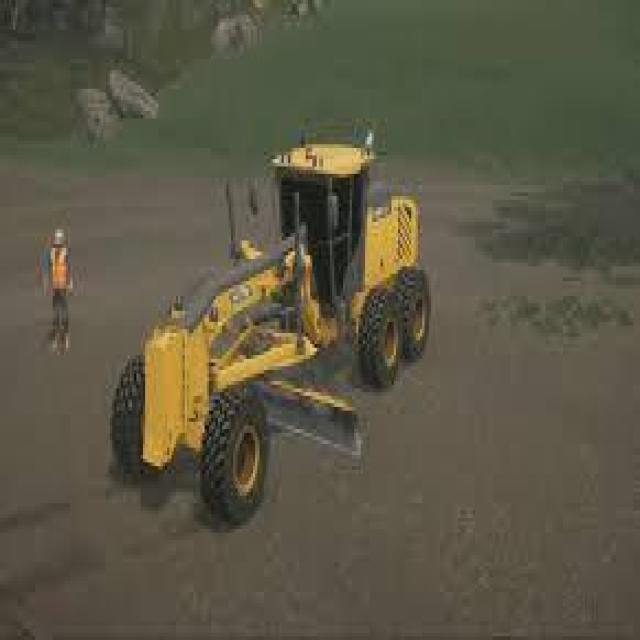buldozerpayloadergrader: (86, 129, 466, 544)
